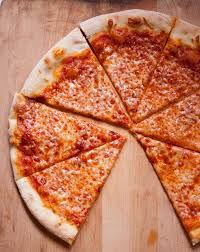pizza: (12, 10, 200, 237)
